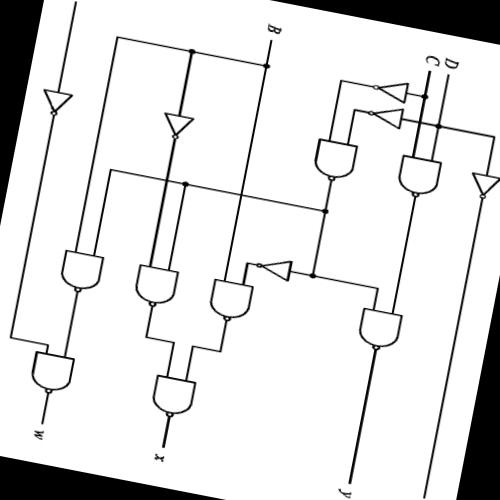nand: (348, 298, 414, 360), (389, 148, 450, 206), (198, 272, 260, 327), (144, 368, 202, 426), (52, 243, 110, 300), (128, 257, 184, 314), (23, 346, 81, 400), (307, 132, 362, 188)
not: (248, 247, 300, 285), (35, 80, 79, 124), (155, 104, 199, 146), (356, 98, 408, 131), (364, 70, 414, 104), (460, 165, 500, 204)
